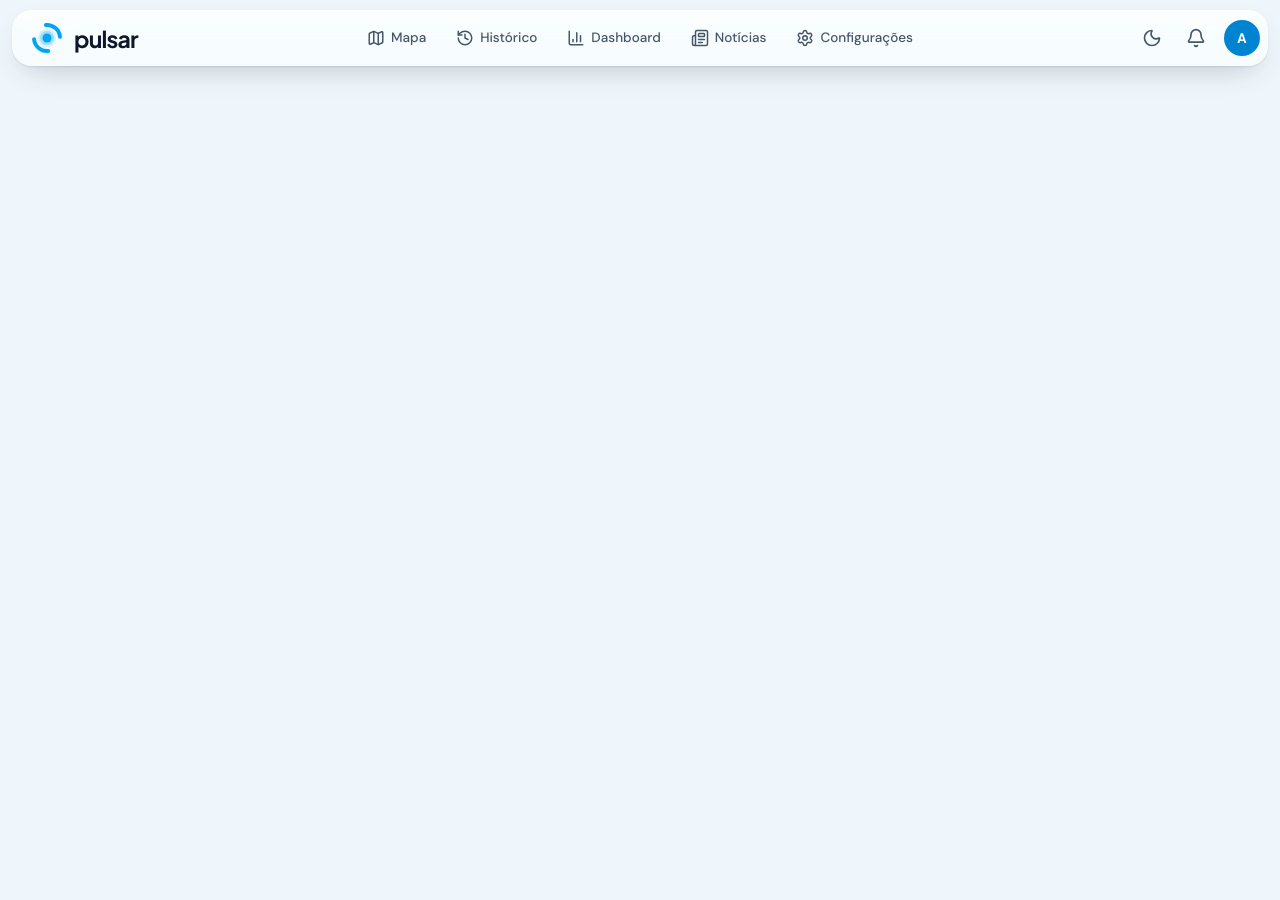
Scenario: Sino pessoal primeiro › sem favoritas conta a cidade; tudo calmo diz tranquilo
What coordinates should you click on to do the following:
click the button named "Notificações"
I would click on:
 (1196, 38)
Its box is [1176, 18, 1216, 58].
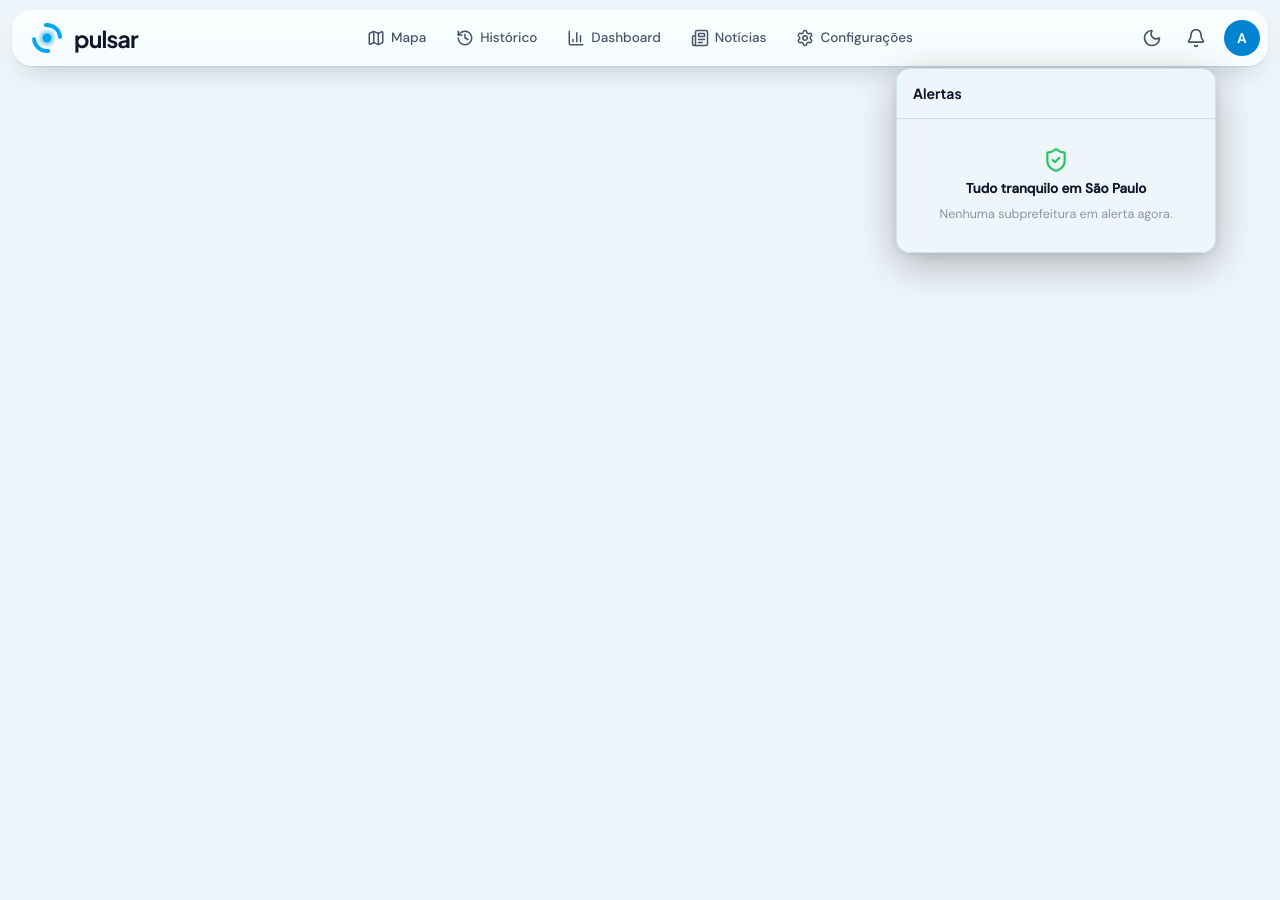
Expected: the text "Tudo tranquilo em São Paulo" is shown, [966, 179, 1146, 199]
